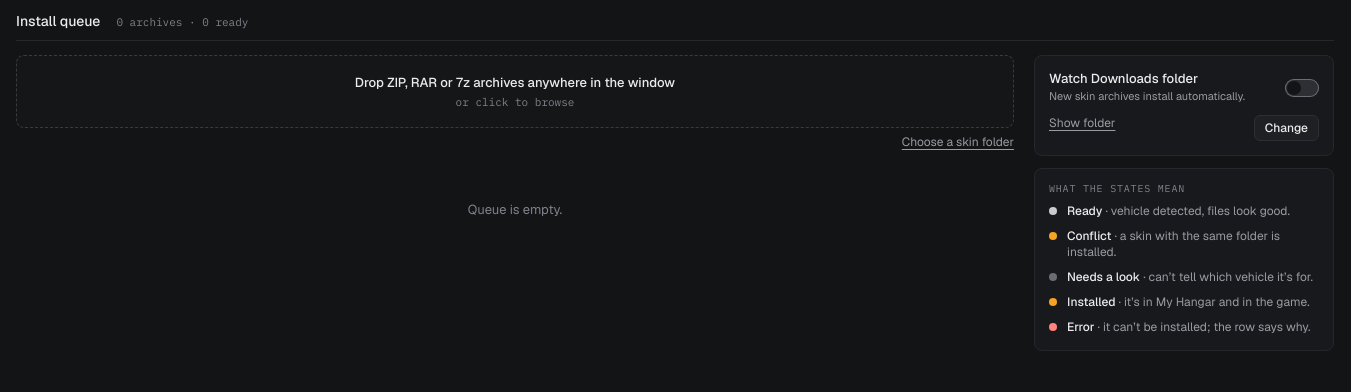
it: Install queue — rows › explains the states and hides the watched path until asked
The image size is (1351, 392).
Expected: the text "Queue is empty." is shown, [468,201,562,218]
Expected: the list items read "Ready · vehicle detected, files look good.", "Conflict · a skin with the same folder is installed.", "Needs a look · can’t tell which vehicle it’s for.", "Installed · it’s in My Hangar and in the game.", "Error · it can’t be installed; the row says why.", in this order, [1049,203,1319,220]; [1049,228,1319,261]; [1049,269,1319,286]; [1049,294,1319,311]; [1049,319,1319,336]
Click the button "Show folder" at (1082, 123), box [1049,115,1115,131]
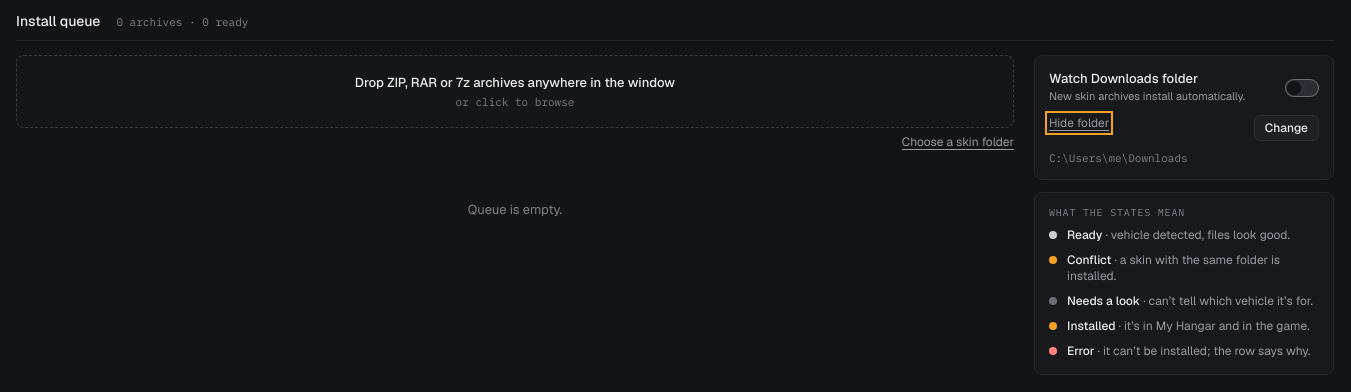
Now the text "C:\\Users\\me\\Downloads" is shown, box [1049,151,1188,165]
Now the button "Hide folder" is expanded, box [1049,115,1109,131]
